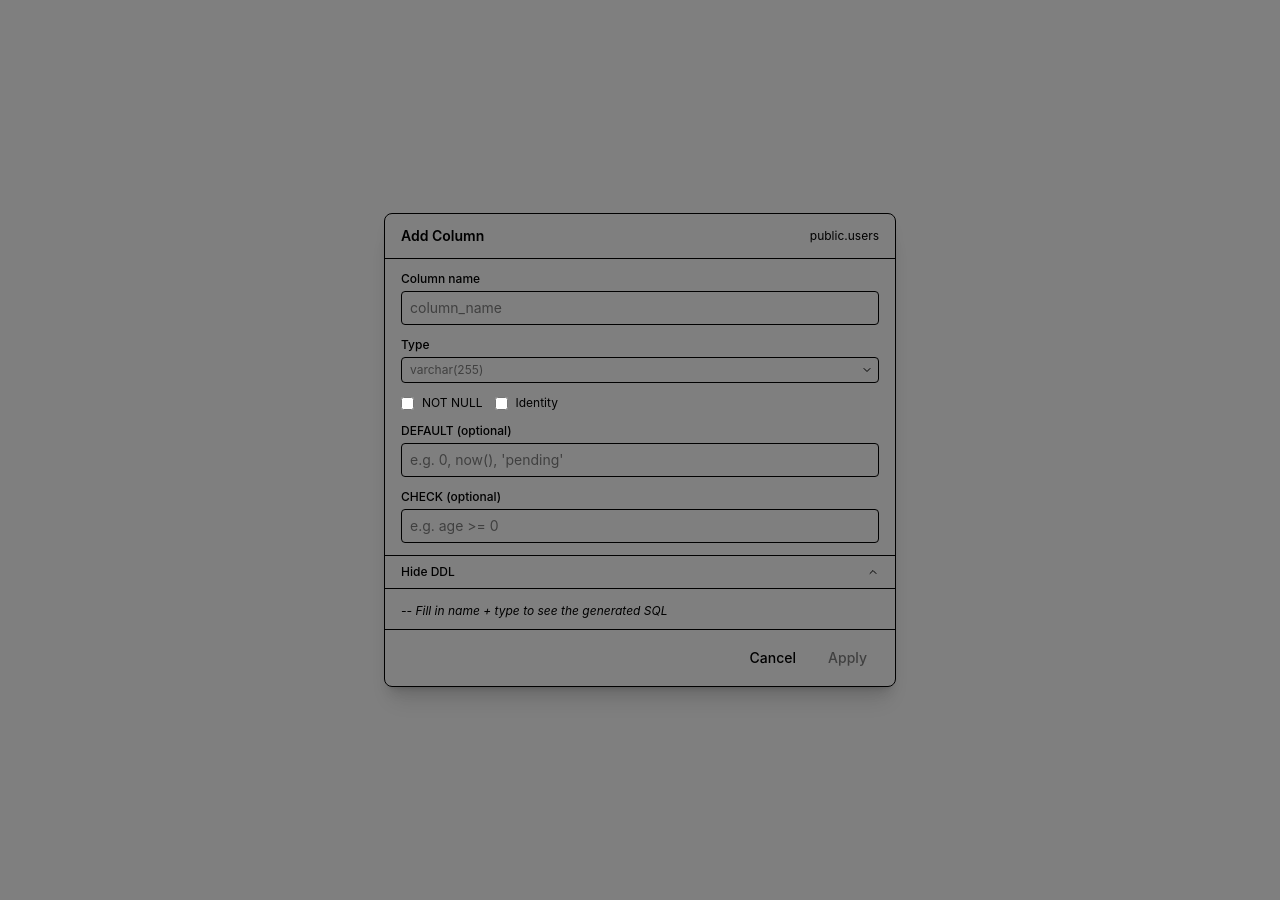
Test: AddColumnDialog (Sprint 236) › [AC-236-09] invalid identifier shows inline error + keeps Apply disabled
In the field labelled "Column name": (640, 308) [401,291,879,325], type "bad name"
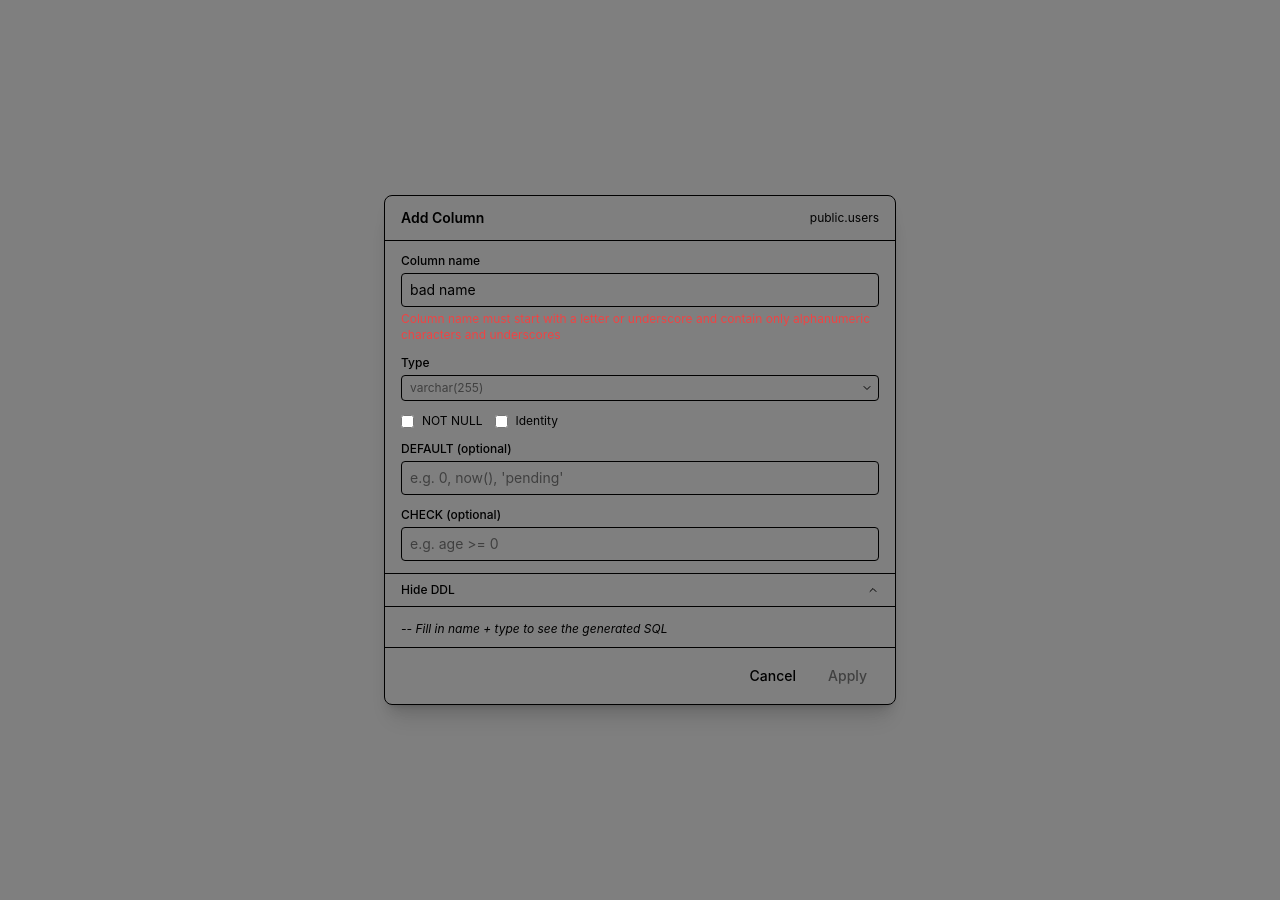
Check: the button "Apply" is disabled, box [816,660,879,692]
Check: the message shows "letter or underscore", box [401,311,870,342]
